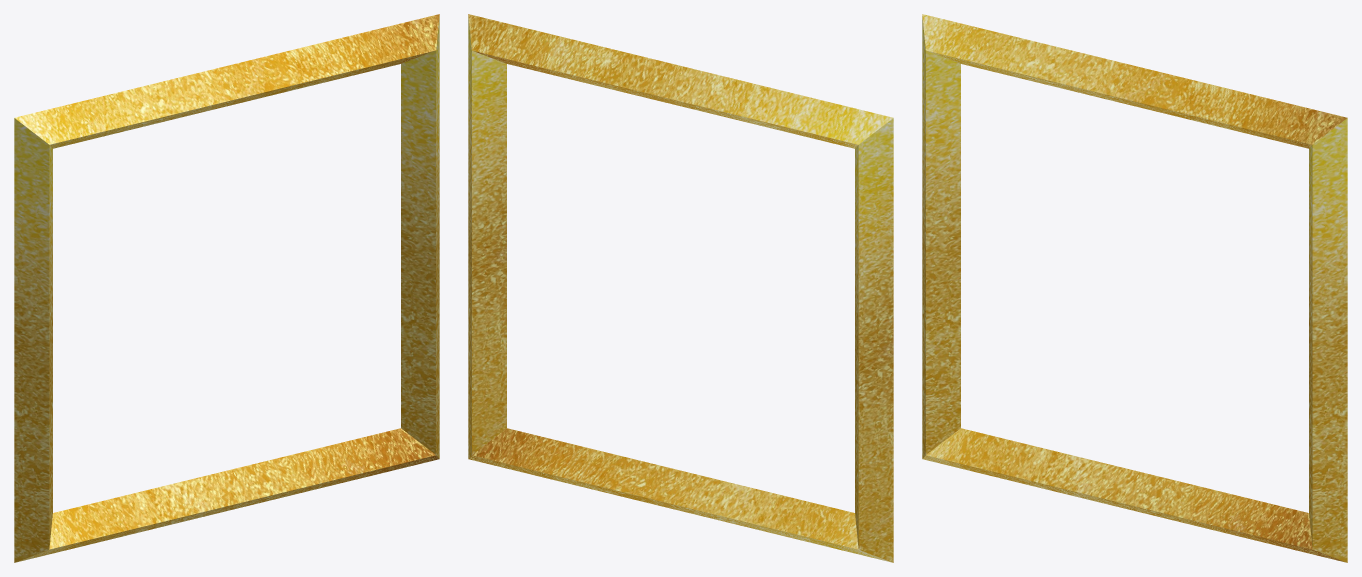
The model's file is Marco.obj.
3 views of the same model, side by side, from view 1: azimuth 30°, elevation 25°; view 2: azimuth 150°, elevation 25°; view 3: azimuth 330°, elevation 25° (orthographic).
Visible parts, largest first — view 1: pTorus1; view 2: pTorus1; view 3: pTorus1.
Boxes of the visible parts, x1,y1,x2,y2 form: pTorus1: [14, 14, 439, 562]; pTorus1: [468, 14, 893, 562]; pTorus1: [922, 14, 1347, 562].
Bounding box in the file's own units: 1.2 × 1.2 × 0.1538.
1 material, 1 textured.
